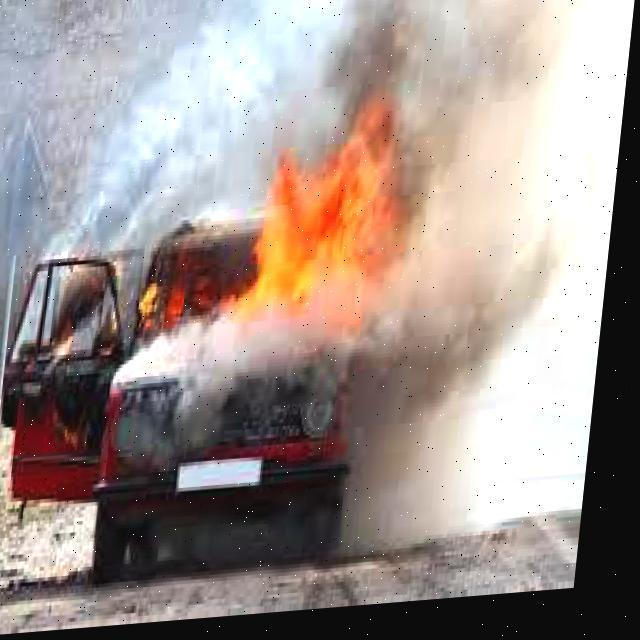Fire: (252, 113, 432, 334), (130, 160, 300, 388), (19, 219, 153, 449)
